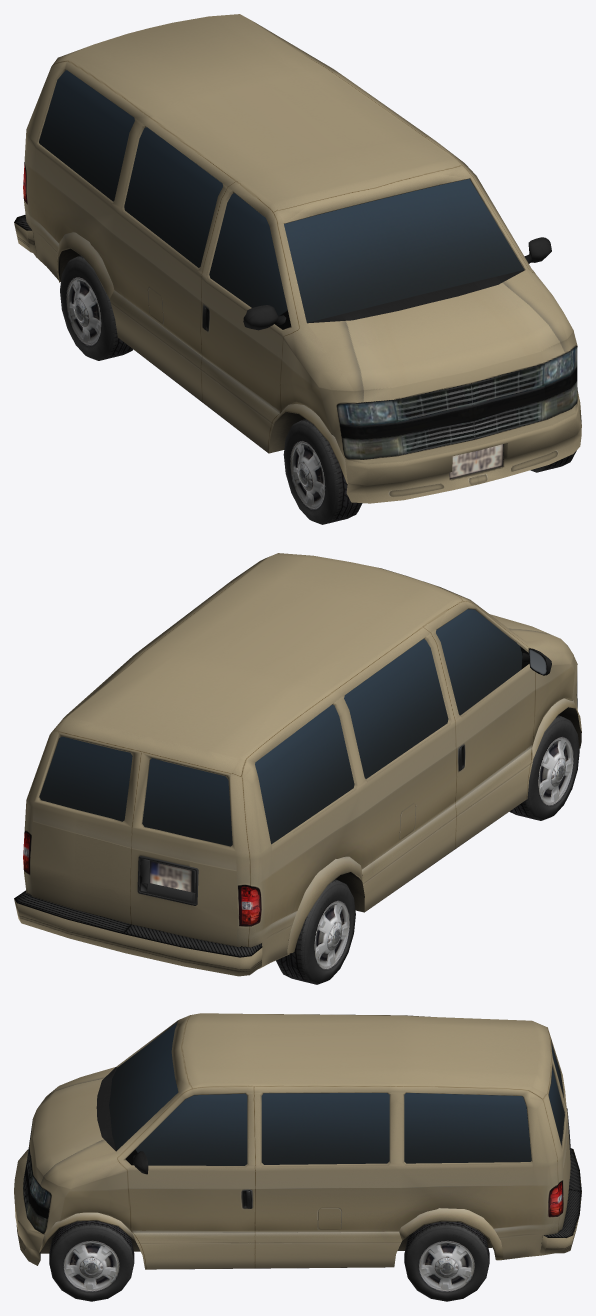
The model's file is van.fbx.
The picture shows the model from 3 angles, top to bottom: view 1: azimuth 30°, elevation 25°; view 2: azimuth 150°, elevation 25°; view 3: azimuth 270°, elevation 25°; orthographic projection. The views are drawn at different scales.
Parts seen in each view (by area): view 1: Van_Body, Van_FR_wheel, Van_BR_wheel, Van_FR_light01, Van_FR_light02, Van_FL_light02, Van_FL_light01; view 2: Van_Body, Van_BR_wheel, Van_FR_wheel, Van_BR_light; view 3: Van_Body, Van_FL_wheel, Van_BL_wheel, Van_BL_light.
Part boxes in pixels (x1,y1,x2,y2): Van_Body: (14, 14, 581, 503); Van_FR_wheel: (283, 419, 362, 524); Van_BR_wheel: (60, 255, 132, 360); Van_FR_light01: (336, 401, 395, 425); Van_FR_light02: (343, 437, 397, 459); Van_FL_light02: (543, 346, 577, 385); Van_FL_light01: (545, 382, 577, 419); Van_Body: (14, 553, 581, 976); Van_BR_wheel: (276, 879, 355, 984); Van_FR_wheel: (509, 715, 579, 820); Van_BR_light: (237, 884, 261, 926); Van_Body: (14, 1013, 581, 1269); Van_FL_wheel: (49, 1220, 134, 1301); Van_BL_wheel: (404, 1221, 489, 1301); Van_BL_light: (548, 1181, 563, 1216).
Bounding box in the file's own units: 232 × 191 × 467.
